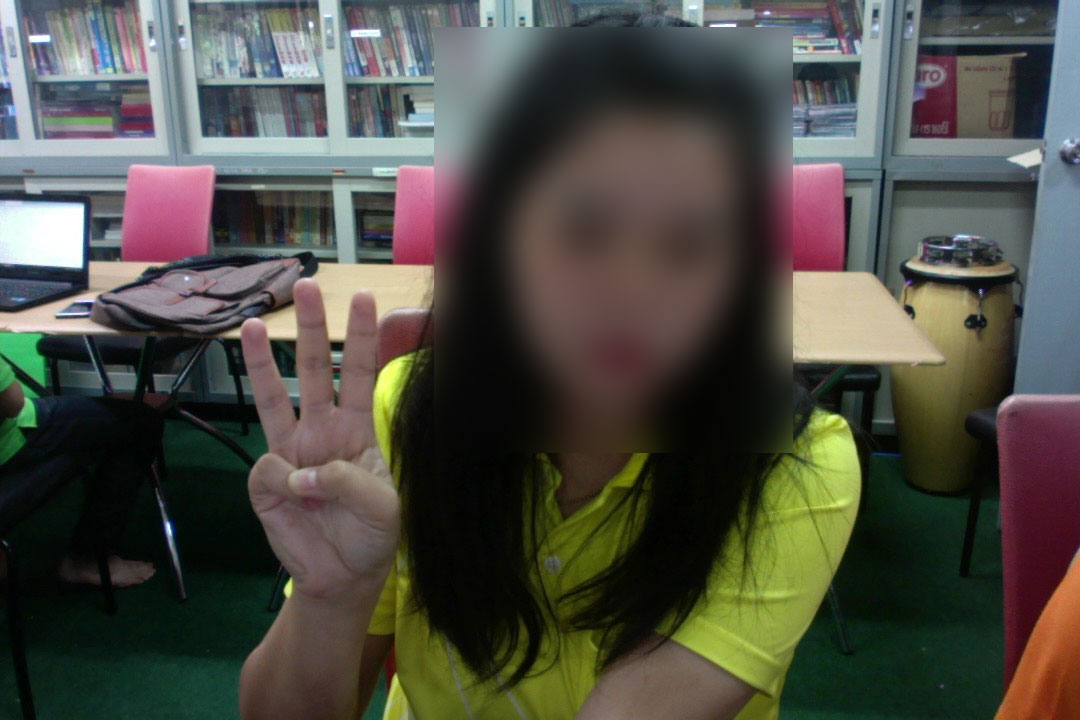wor: (226, 279, 415, 612)
